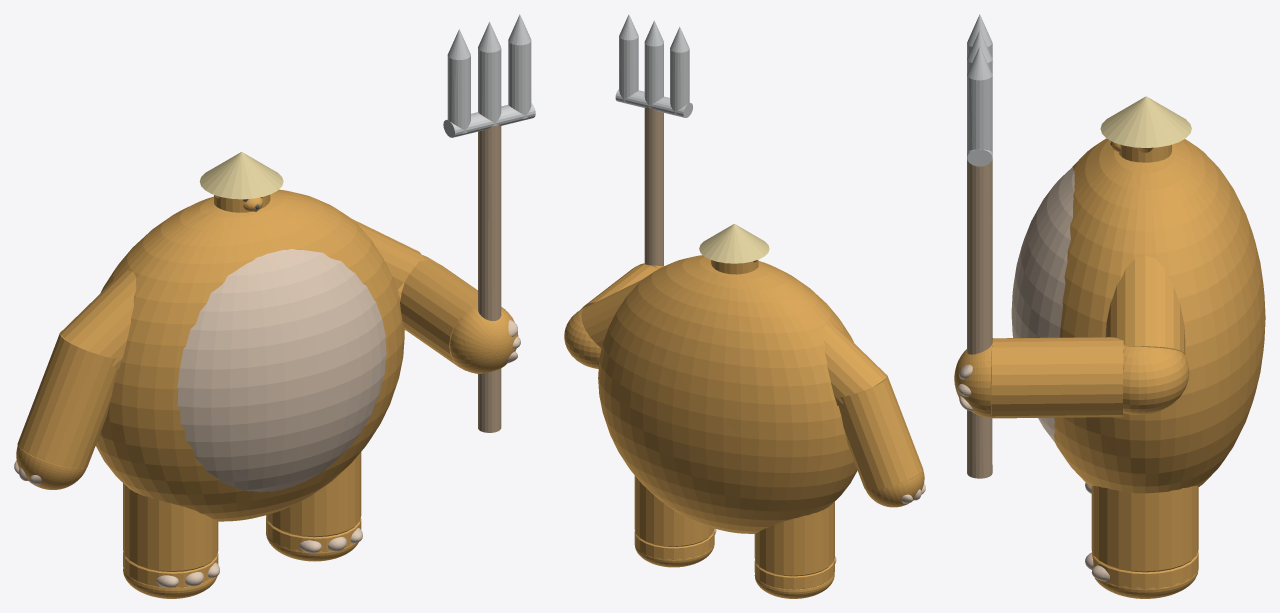
Rendered from farmhand_pip_1.glb.
The picture shows the model from 3 angles, left to right: view 1: azimuth 30°, elevation 25°; view 2: azimuth 150°, elevation 25°; view 3: azimuth 270°, elevation 25°; orthographic projection. The views are drawn at different scales.
Visible parts, largest first — view 1: Mesh_Mesh_head_geo.001_lambert2SG.001; view 2: Mesh_Mesh_head_geo.001_lambert2SG.001; view 3: Mesh_Mesh_head_geo.001_lambert2SG.001.
Part boxes in pixels (box(x1,y1,x2,y2)): Mesh_Mesh_head_geo.001_lambert2SG.001: box(14, 14, 535, 598); Mesh_Mesh_head_geo.001_lambert2SG.001: box(564, 14, 925, 598); Mesh_Mesh_head_geo.001_lambert2SG.001: box(954, 14, 1265, 598).
Size of the model in its own units: 21.5 by 26.75 by 12.25.
